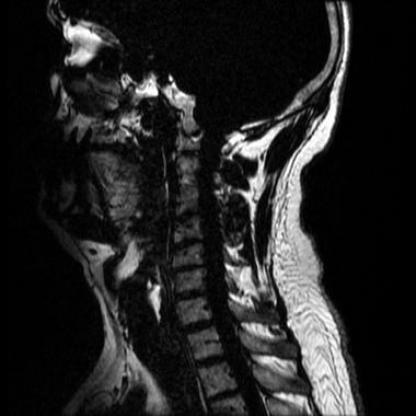Disc Protrusionrotation: (168, 261, 208, 276), (172, 287, 208, 303), (170, 235, 205, 251), (172, 208, 204, 223)
Osteophytesrotation: (168, 261, 208, 276), (172, 287, 208, 303), (170, 235, 205, 251), (172, 208, 204, 223)
